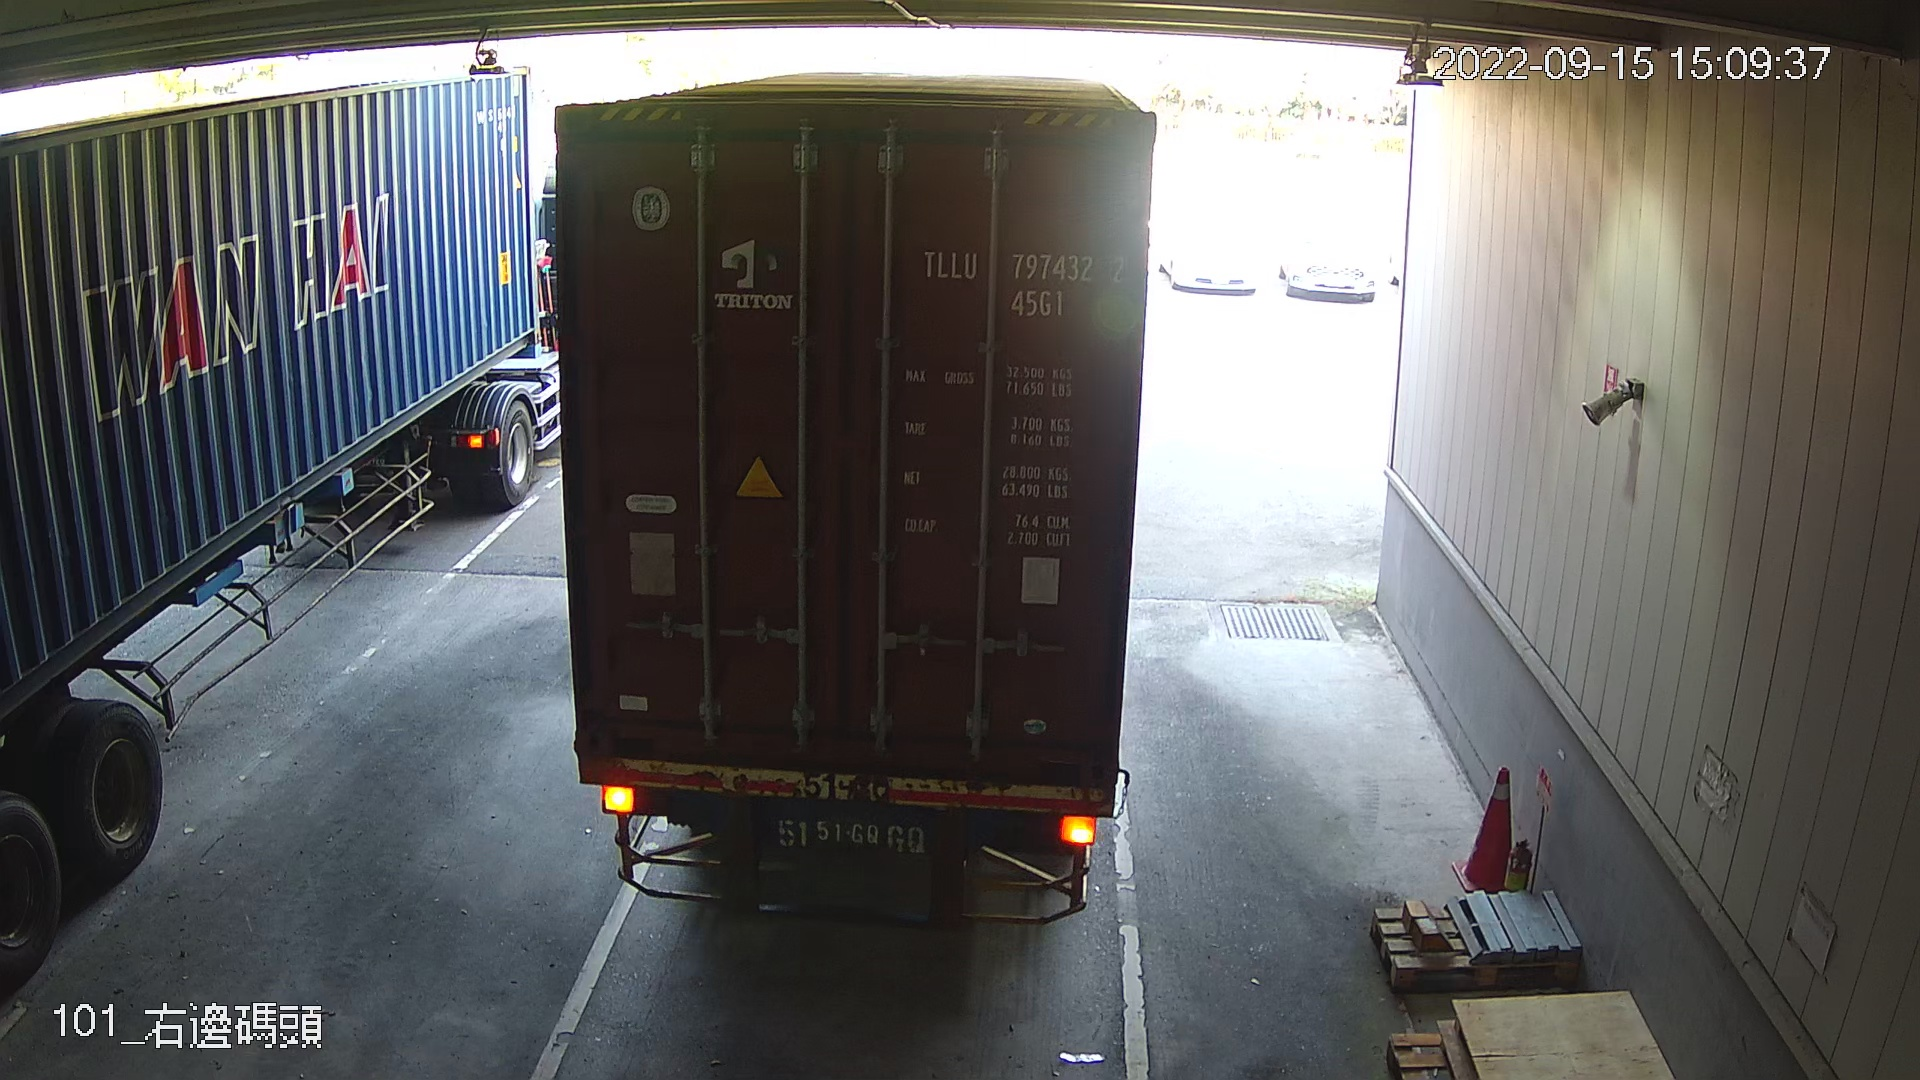container: (913, 236, 1135, 326)
